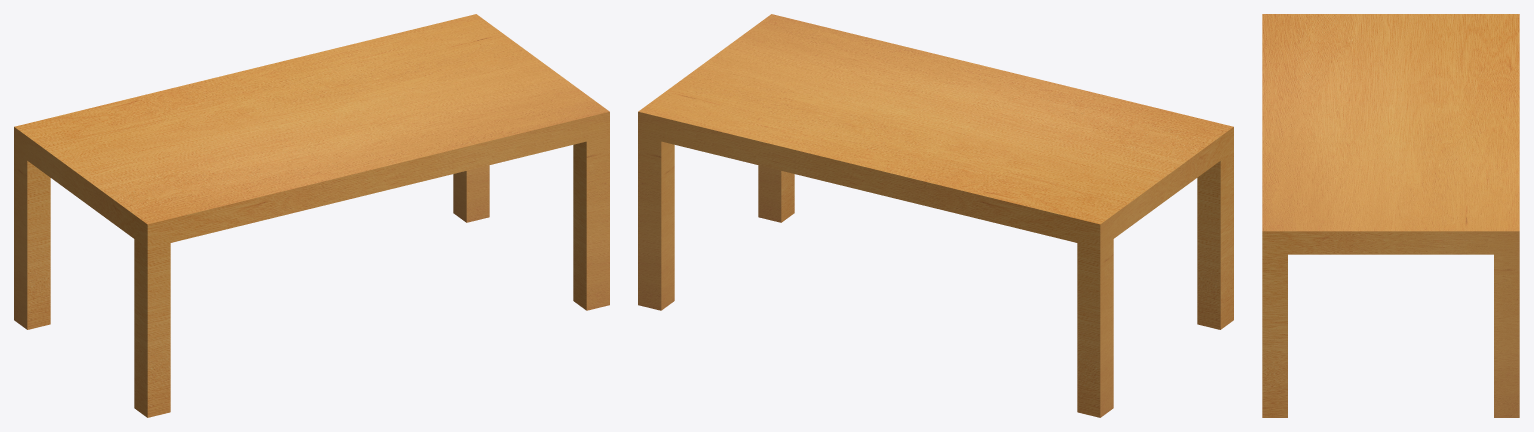
File: Furniture_Desk_big.fbx
3 views of the same model, side by side, from view 1: azimuth 30°, elevation 25°; view 2: azimuth 150°, elevation 25°; view 3: azimuth 270°, elevation 25° (orthographic). The views are drawn at different scales.
Parts seen in each view (by area): view 1: pCube1; view 2: pCube1; view 3: pCube1.
Part boxes in pixels (x1,y1,x2,y2): pCube1: [14, 14, 609, 417]; pCube1: [638, 14, 1233, 417]; pCube1: [1262, 14, 1519, 417].
Bounding box in the file's own units: 200 × 80 × 100.
1 material, 1 textured.
